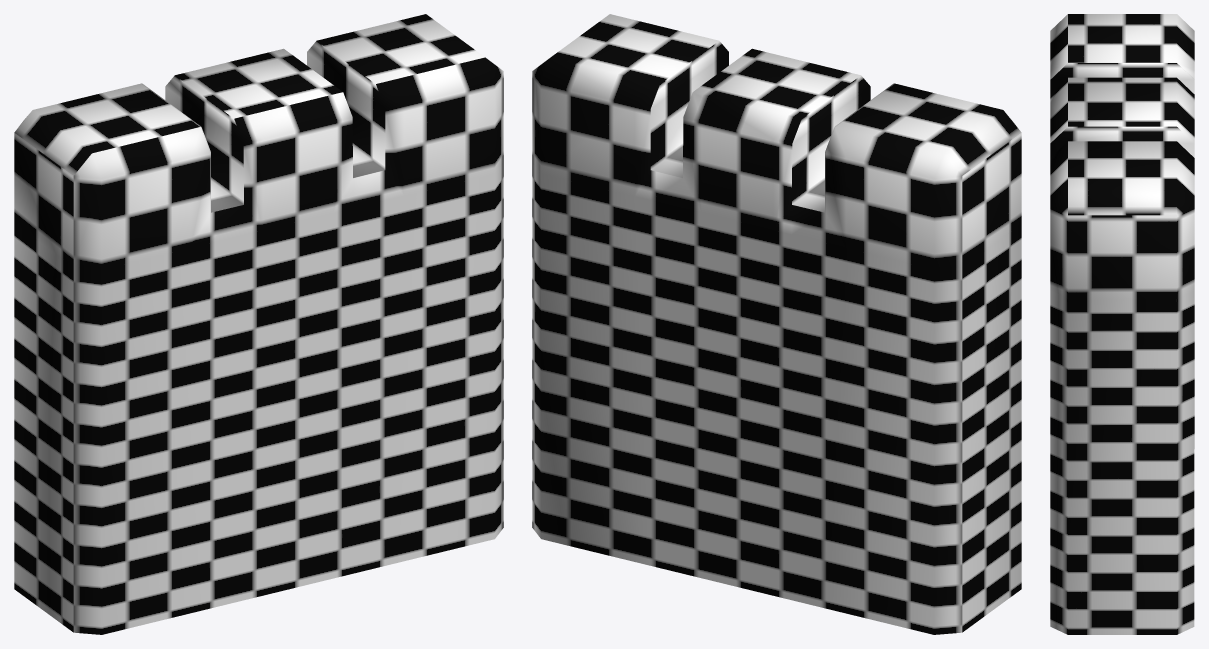
Rendered from stwa12.dae.
3 views of the same model, side by side, from view 1: azimuth 30°, elevation 25°; view 2: azimuth 150°, elevation 25°; view 3: azimuth 270°, elevation 25° (orthographic). The views are drawn at different scales.
Parts seen in each view (by area): view 1: wall1; view 2: wall1; view 3: wall1.
Part boxes in pixels (box(x1,y1,x2,y2)): wall1: box(14, 14, 503, 634); wall1: box(532, 14, 1021, 634); wall1: box(1050, 14, 1194, 634).
Bounding box in the file's own units: 1.29 × 0.4065 × 1.36.
Materials: 1 (1 with a texture image).
